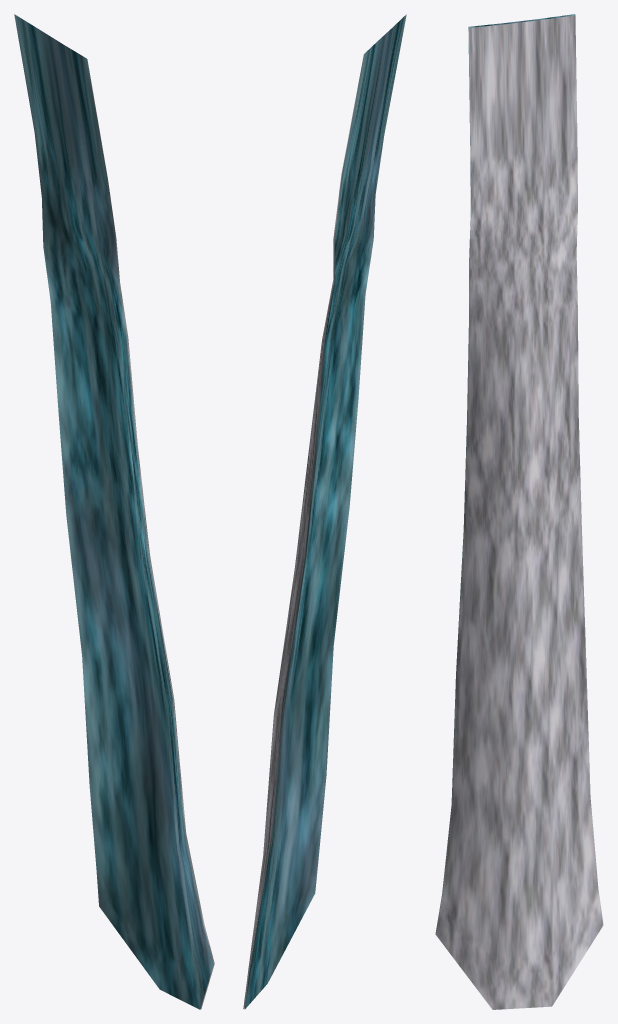
File: OVERHILL_A_01_WATERFALLS07.fbx
The picture shows the model from 3 angles, left to right: view 1: azimuth 30°, elevation 25°; view 2: azimuth 150°, elevation 25°; view 3: azimuth 270°, elevation 25°; orthographic projection. The views are drawn at different scales.
Visible parts, largest first — view 1: OVERHILL_A_01_WATERFALLS07; view 2: OVERHILL_A_01_WATERFALLS07; view 3: OVERHILL_A_01_WATERFALLS07.
Boxes of the visible parts, x1=… form: OVERHILL_A_01_WATERFALLS07: x1=14, y1=14, x2=214, y2=1009; OVERHILL_A_01_WATERFALLS07: x1=243, y1=14, x2=406, y2=1009; OVERHILL_A_01_WATERFALLS07: x1=435, y1=14, x2=603, y2=1009.
Bounding box in the file's own units: 10380 × 69348 × 11336.
2 materials, 2 textured.
